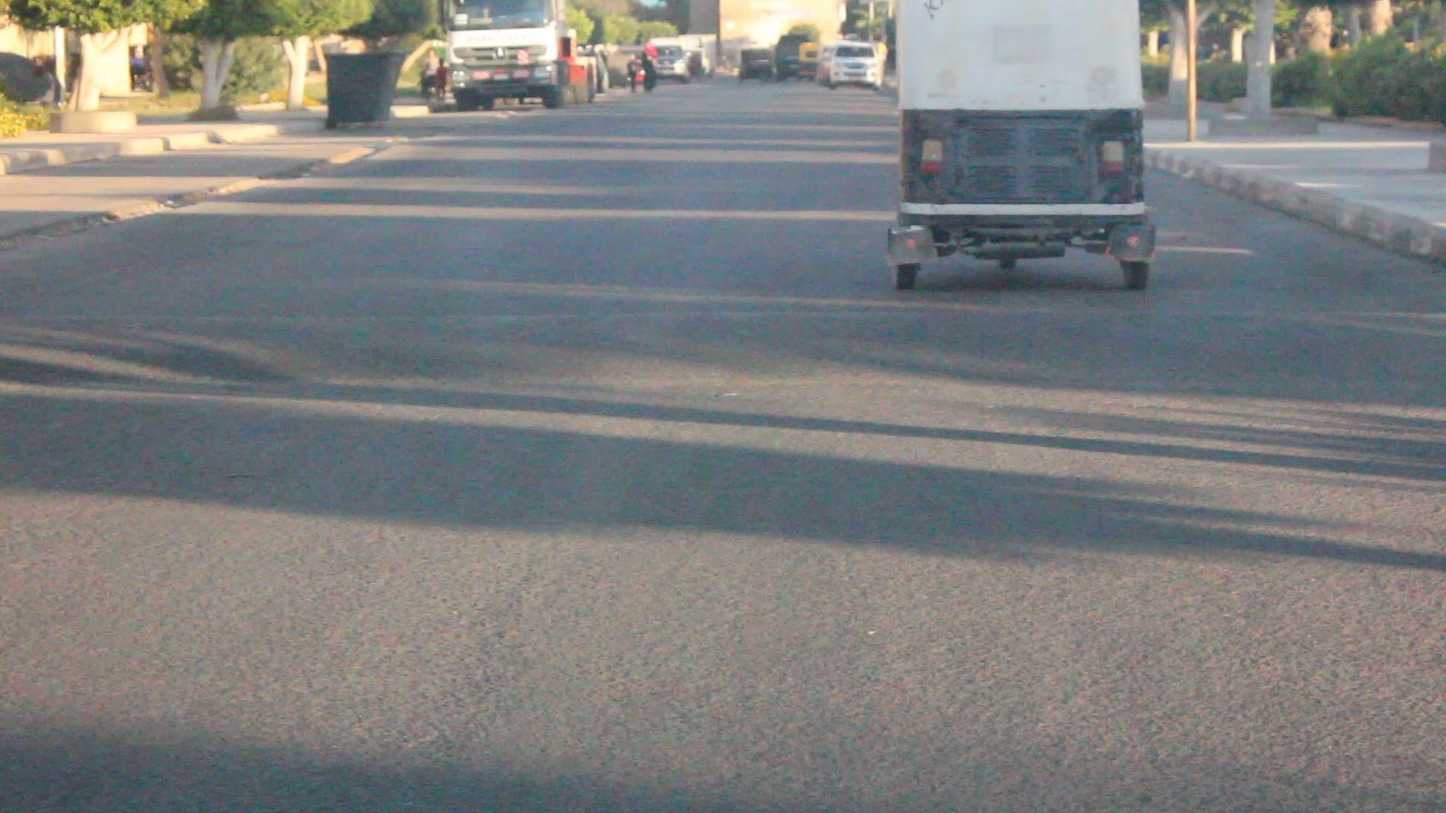Bump: (0, 316, 1446, 384)
